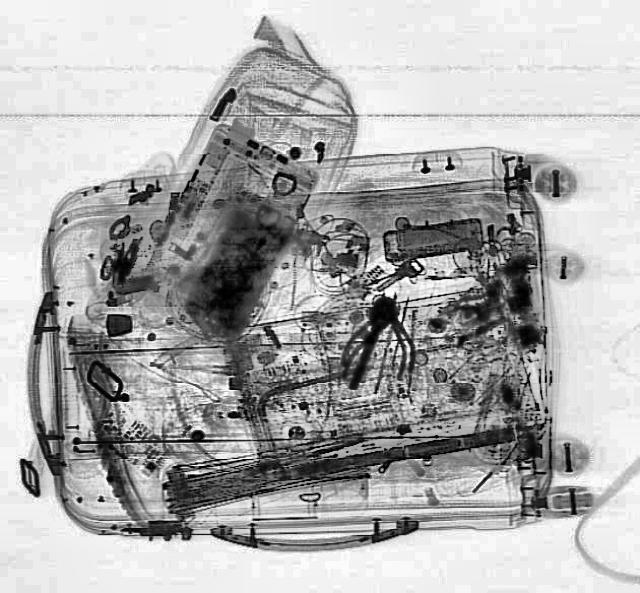Pliers: (340, 288, 430, 384), (336, 288, 422, 380)
